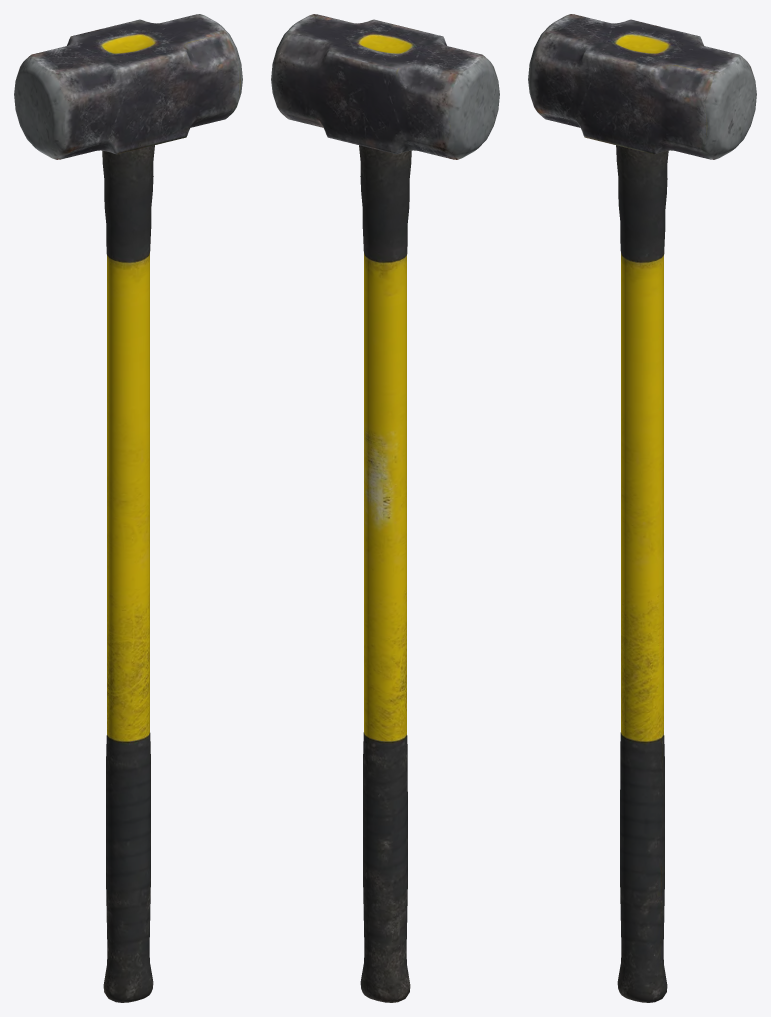
File: sledgehammer.glb
3 renders of one model, left to right at view 1: azimuth 30°, elevation 25°; view 2: azimuth 150°, elevation 25°; view 3: azimuth 330°, elevation 25°, orthographic.
Parts seen in each view (by area): view 1: sledgehammer_01; view 2: sledgehammer_01; view 3: sledgehammer_01.
Part boxes in pixels (left/top/right/bottom): sledgehammer_01: left=14, top=14, right=242, bottom=1002; sledgehammer_01: left=271, top=14, right=499, bottom=1002; sledgehammer_01: left=528, top=14, right=756, bottom=1002.
Size of the model in its own units: 0.2085 by 1.01 by 0.0905.
1 material, 1 textured.
